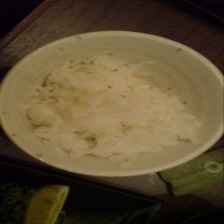rice: (21, 57, 206, 167)
